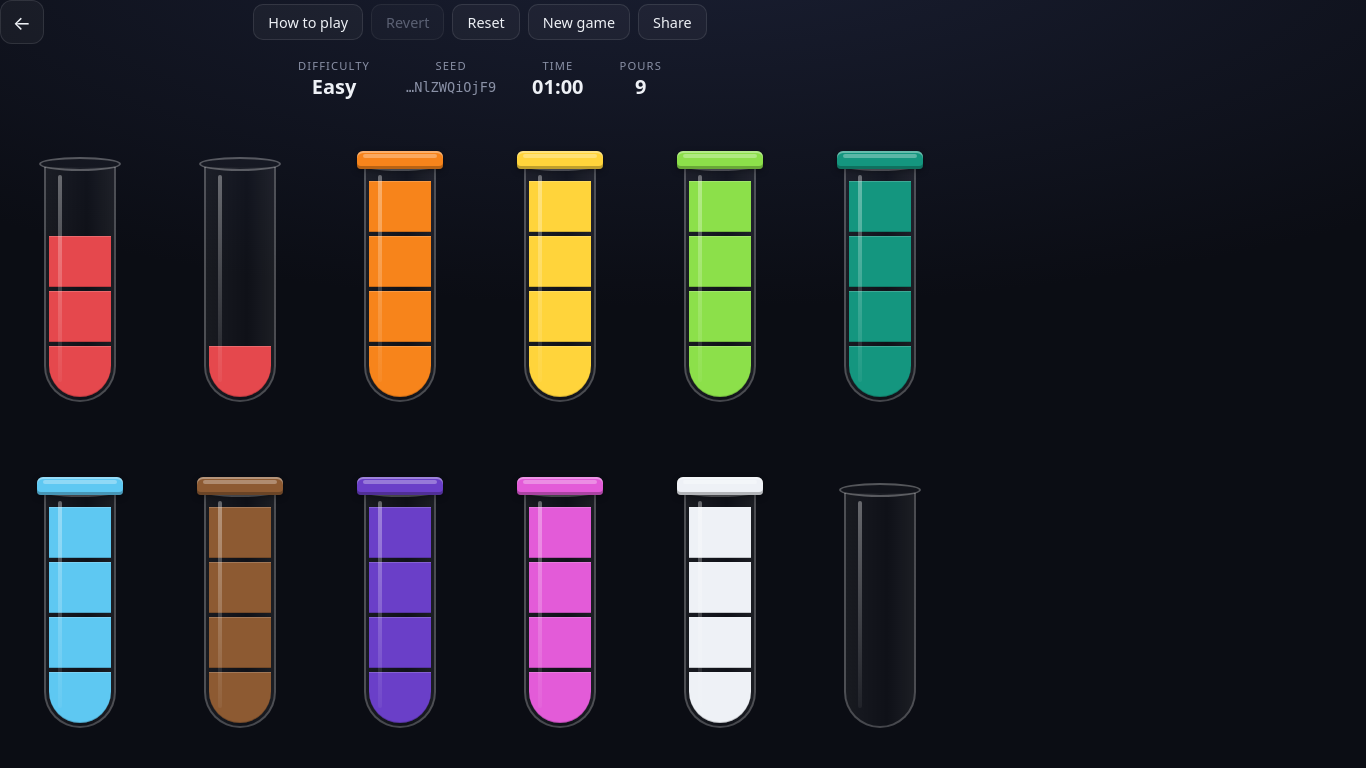
Test: end of game › congratulates once the solving pour has finished animating
Click the button named "vial" at [240, 280], box [204,157,276,402]
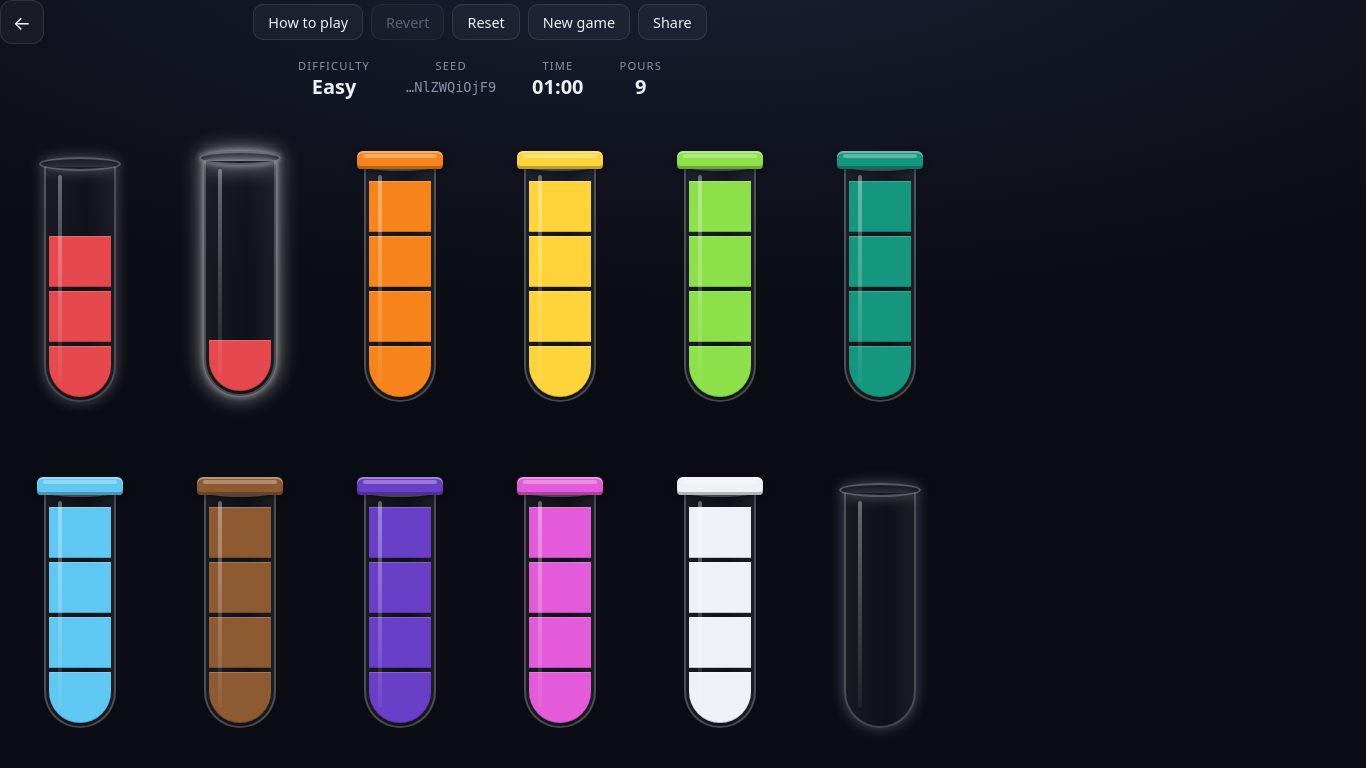
Click the button named "vial" at [80, 280], box [44,157,116,402]
Wait 300 ms
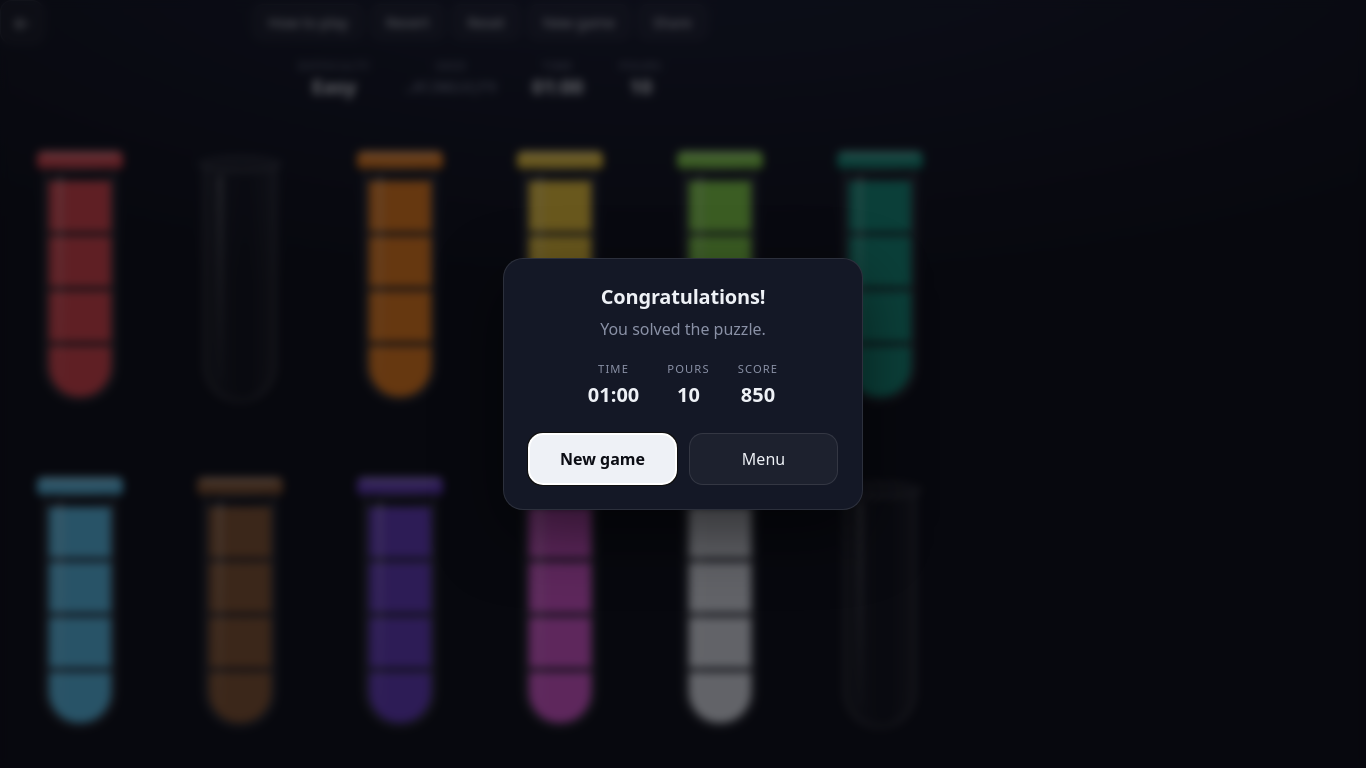
Check: the dialog "Congratulations!" shows "You solved the puzzle.", box [600,318,766,340]
